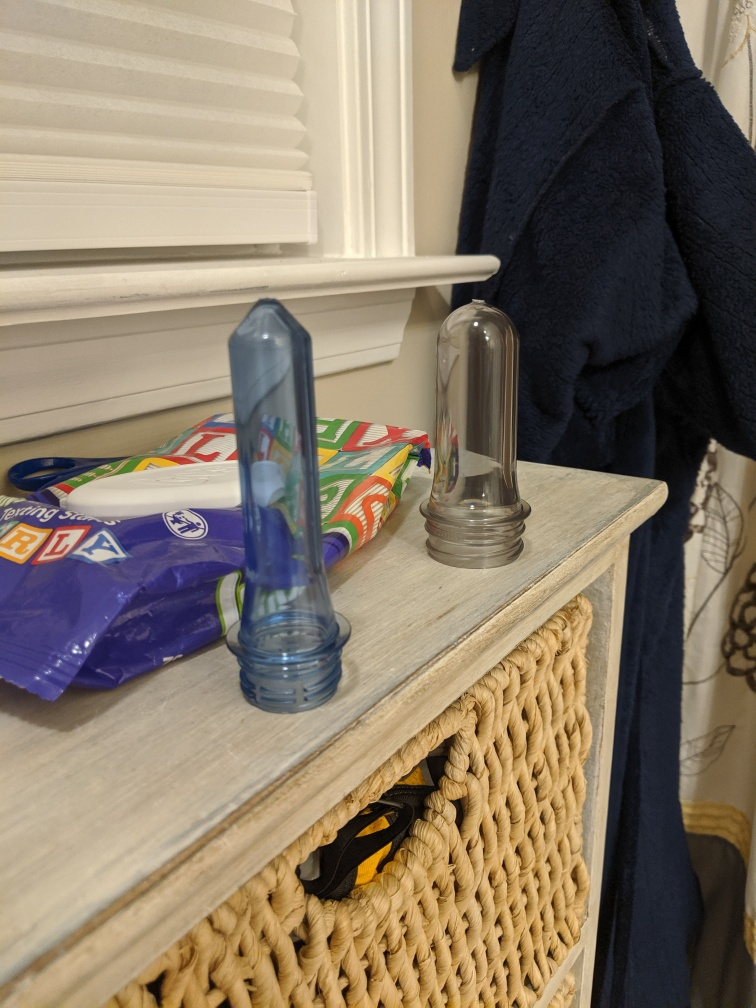preform: (211, 286, 367, 718), (410, 284, 542, 575)
